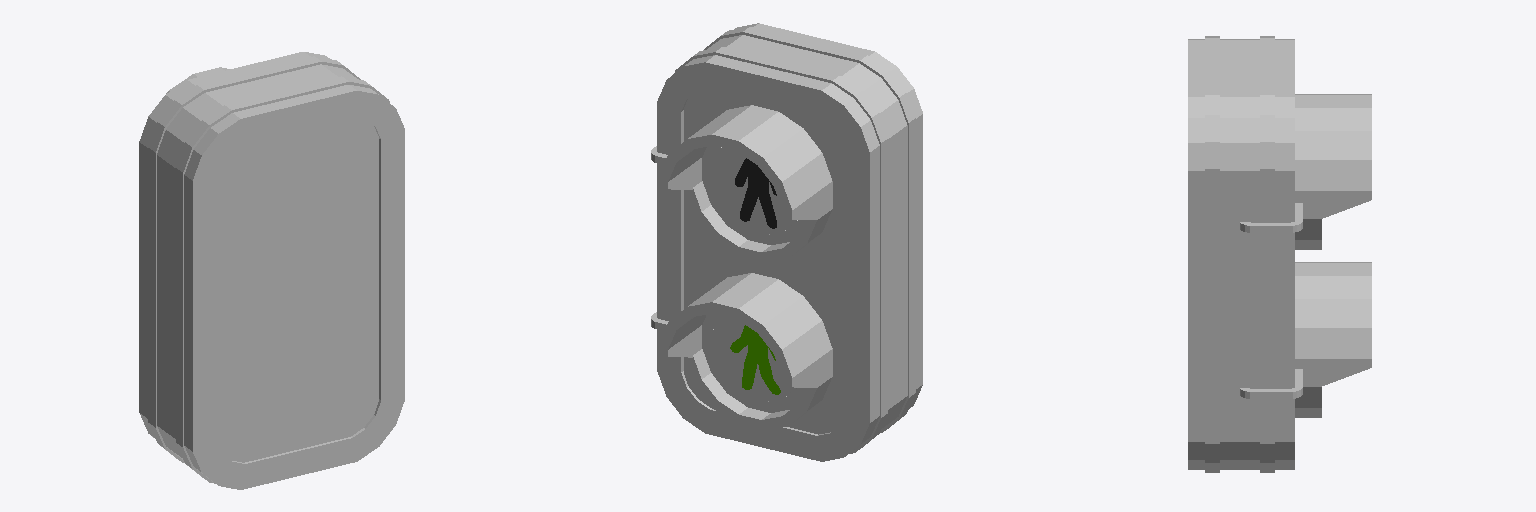
The picture shows the model from 3 angles: view 1: azimuth 30°, elevation 25°; view 2: azimuth 150°, elevation 25°; view 3: azimuth 270°, elevation 25°; orthographic projection.
Parts seen in each view (by area): view 1: trafficlight; view 2: trafficlight, redlight, greenlight, red, green; view 3: trafficlight.
Part boxes in pixels (bbox=[...]): trafficlight: bbox=[139, 52, 404, 489]; trafficlight: bbox=[651, 23, 922, 461]; redlight: bbox=[712, 147, 797, 234]; greenlight: bbox=[712, 315, 796, 401]; red: bbox=[735, 158, 776, 228]; green: bbox=[730, 325, 780, 394]; trafficlight: bbox=[1188, 36, 1371, 472].
Bounding box in the file's own units: 0.4277 × 0.6972 × 0.3087.
3 materials, 1 textured.